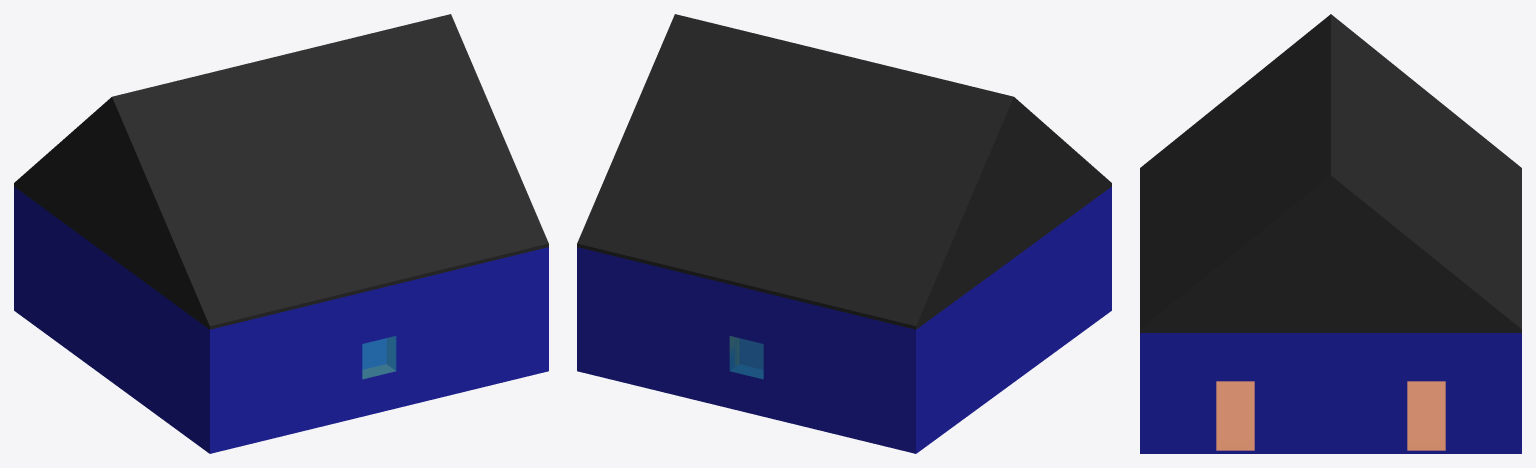
Rendered from House5b.fbx.
3 views of the same model, side by side, from view 1: azimuth 30°, elevation 25°; view 2: azimuth 150°, elevation 25°; view 3: azimuth 270°, elevation 25° (orthographic). The views are drawn at different scales.
Visible parts, largest first — view 1: Cube.003, Cube, Cube.008; view 2: Cube.003, Cube, Cube.009; view 3: Cube.003, Cube, Cube.004, Cube.005.
Part boxes in pixels (left/top/right/bottom): Cube.003: left=14, top=14, right=548, bottom=329; Cube: left=14, top=186, right=548, bottom=453; Cube.008: left=362, top=336, right=396, bottom=379; Cube.003: left=577, top=14, right=1111, bottom=329; Cube: left=577, top=186, right=1111, bottom=453; Cube.009: left=729, top=336, right=763, bottom=379; Cube.003: left=1140, top=14, right=1521, bottom=332; Cube: left=1140, top=333, right=1521, bottom=453; Cube.004: left=1407, top=442, right=1445, bottom=453; Cube.005: left=1216, top=442, right=1254, bottom=453.
Size of the model in its own units: 2000 by 1610 by 2000.
